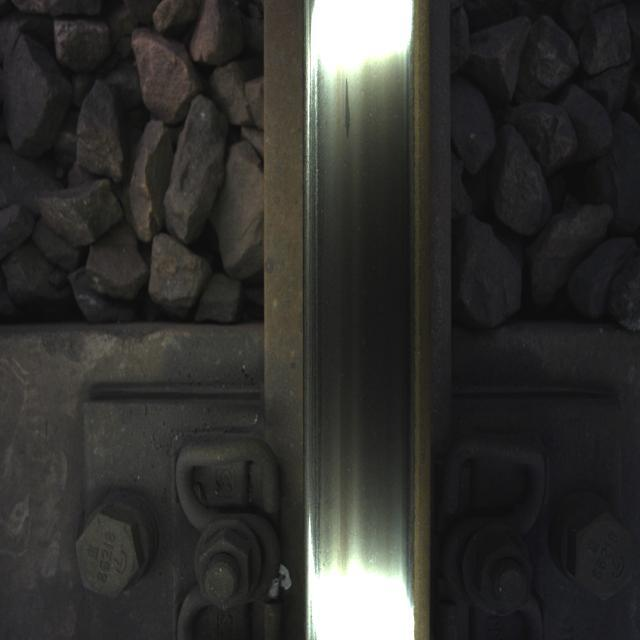crack: (323, 56, 372, 176)
